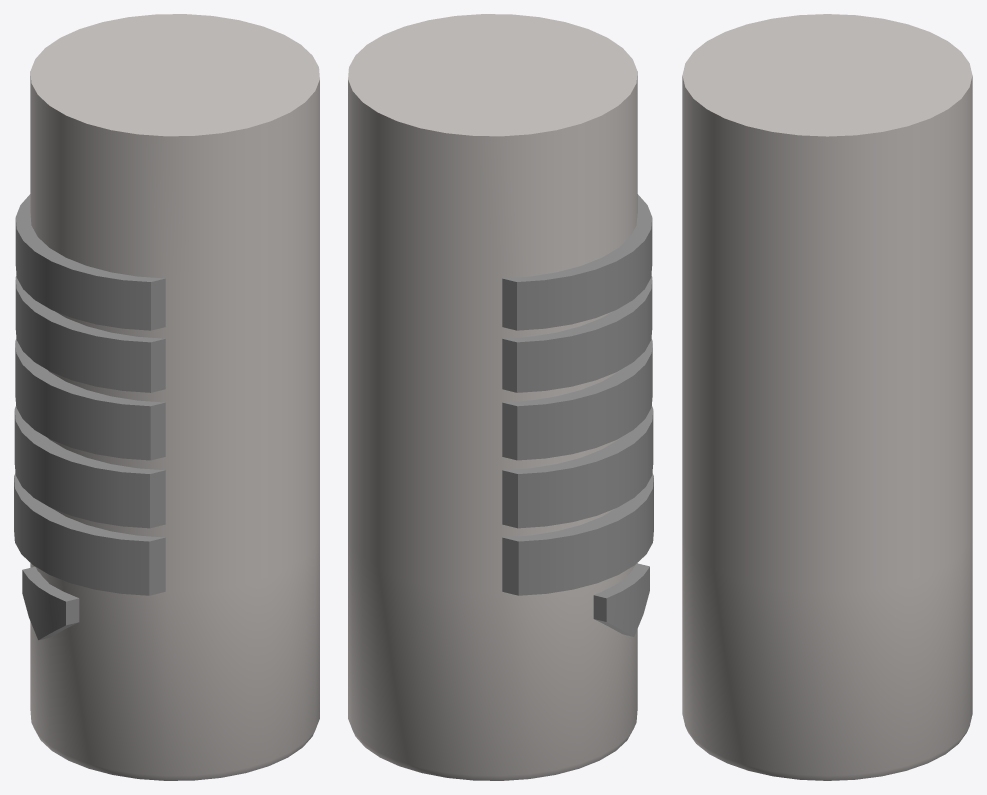
Rendered from PC_HydraulicPress.fbx.
The picture shows the model from 3 angles, left to right: view 1: azimuth 30°, elevation 25°; view 2: azimuth 150°, elevation 25°; view 3: azimuth 270°, elevation 25°; orthographic projection.
Visible parts, largest first — view 1: PC_HydraulicPress, PC_HP_Stripe05, PC_HP_Stripe04, PC_HP_Stripe03, PC_HP_Stripe01, PC_HP_Stripe02, PC_HP_Arrow; view 2: PC_HydraulicPress, PC_HP_Stripe05, PC_HP_Stripe04, PC_HP_Stripe03, PC_HP_Stripe01, PC_HP_Stripe02, PC_HP_Arrow; view 3: PC_HydraulicPress.
Part boxes in pixels (left/top/right/bottom): PC_HydraulicPress: left=30, top=14, right=319, bottom=780; PC_HP_Stripe05: left=14, top=473, right=165, bottom=595; PC_HP_Stripe04: left=14, top=406, right=165, bottom=528; PC_HP_Stripe03: left=15, top=339, right=165, bottom=460; PC_HP_Stripe01: left=15, top=194, right=165, bottom=330; PC_HP_Stripe02: left=15, top=275, right=165, bottom=392; PC_HP_Arrow: left=22, top=566, right=79, bottom=640; PC_HydraulicPress: left=348, top=14, right=637, bottom=780; PC_HP_Stripe05: left=502, top=473, right=653, bottom=595; PC_HP_Stripe04: left=502, top=406, right=653, bottom=528; PC_HP_Stripe03: left=502, top=339, right=652, bottom=460; PC_HP_Stripe01: left=502, top=194, right=652, bottom=330; PC_HP_Stripe02: left=502, top=275, right=652, bottom=392; PC_HP_Arrow: left=593, top=563, right=649, bottom=636; PC_HydraulicPress: left=682, top=14, right=972, bottom=780.
Bounding box in the file's own units: 0.1825 × 0.4207 × 0.1712.
